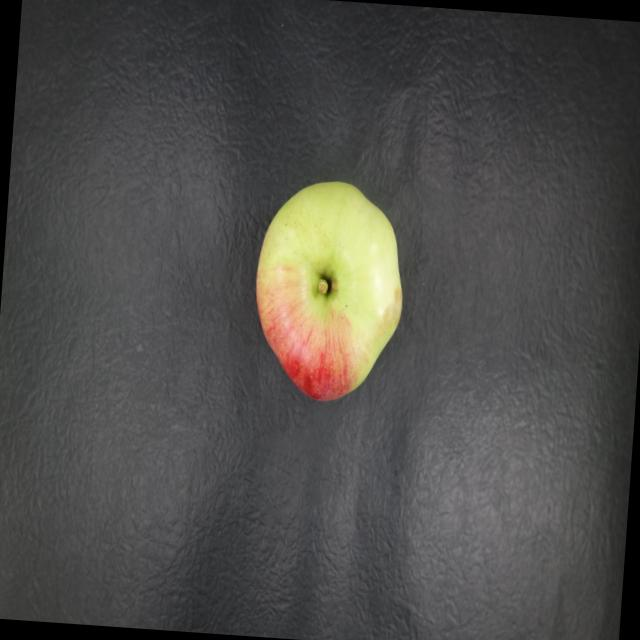rotten: (245, 170, 415, 411)
